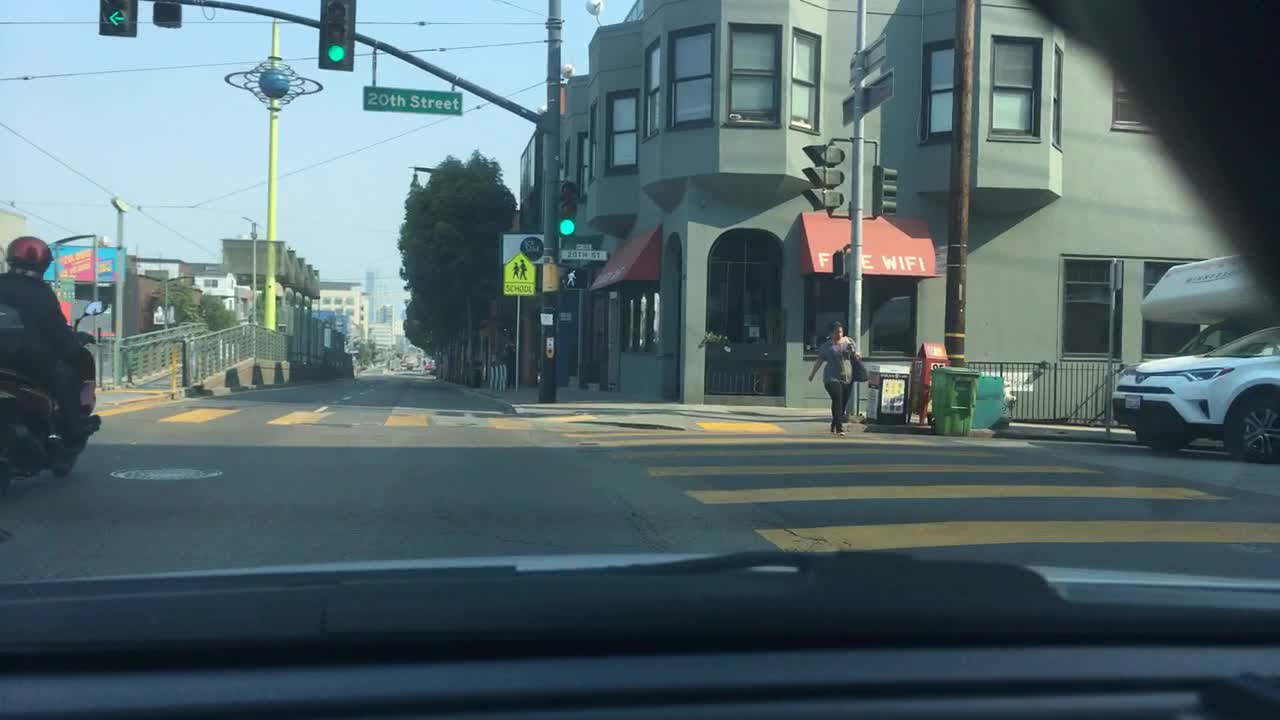car: (1109, 252, 1277, 464), (424, 358, 434, 368), (401, 358, 411, 367), (405, 361, 414, 371)
motor: (0, 298, 101, 481)
person: (807, 322, 871, 434)
rider: (0, 234, 101, 442)
traffic light: (799, 142, 844, 213), (318, 0, 355, 72), (873, 164, 902, 217), (98, 0, 139, 36), (555, 179, 579, 235), (833, 247, 854, 281), (153, 3, 180, 27), (564, 267, 588, 290)
traffic sign: (362, 83, 466, 117), (840, 66, 896, 125), (849, 33, 886, 84), (502, 247, 538, 297), (561, 243, 610, 263), (538, 312, 556, 326)
